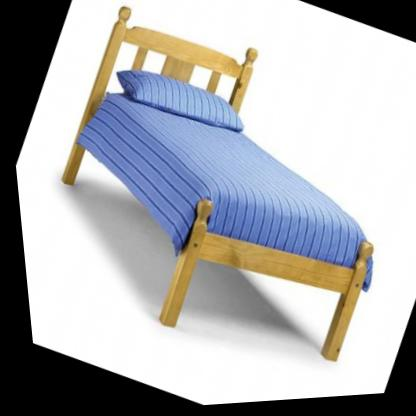Bed: (2, 0, 416, 406)
